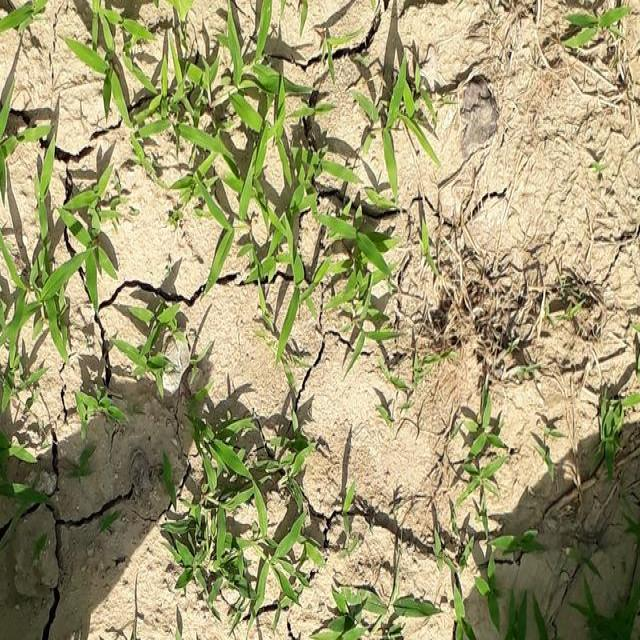weed: (87, 0, 394, 351), (159, 401, 331, 623)
